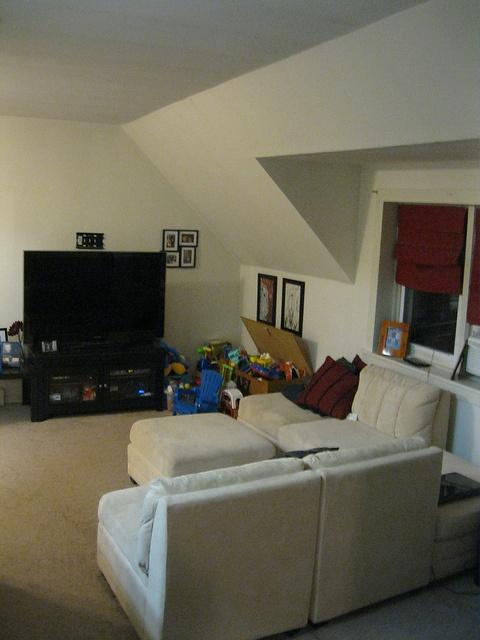AIO PC-Monitor-TV: (22, 250, 167, 348)
